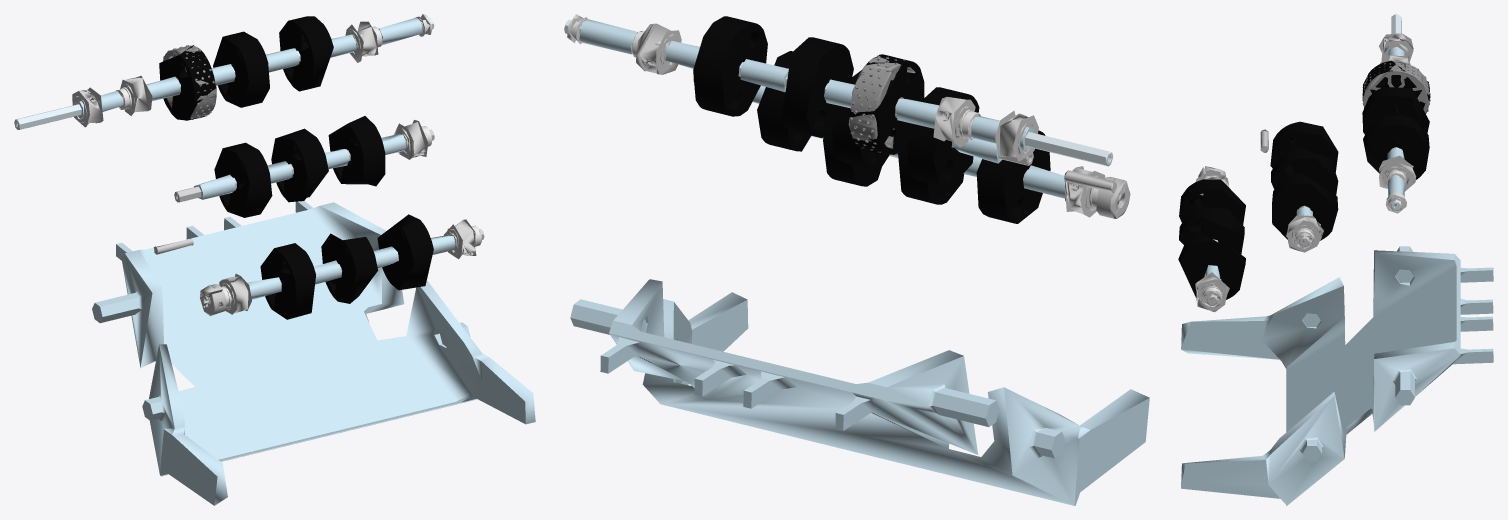
File: decode-intake.glb
3 views of the same model, side by side, from view 1: azimuth 30°, elevation 25°; view 2: azimuth 150°, elevation 25°; view 3: azimuth 270°, elevation 25° (orthographic). The views are drawn at different scales.
Parts seen in each view (by area): view 1: telemark-cad-intake-plate, telemark-cad-intake-stage-3, telemark-cad-intake-stage-1, telemark-cad-intake-stage-2; view 2: telemark-cad-intake-plate, telemark-cad-intake-stage-3, telemark-cad-intake-stage-1, telemark-cad-intake-stage-2; view 3: telemark-cad-intake-plate, telemark-cad-intake-stage-3, telemark-cad-intake-stage-2, telemark-cad-intake-stage-1.
Boxes of the visible parts, x1,y1,x2,y2 form: telemark-cad-intake-plate: (92,201,535,505); telemark-cad-intake-stage-3: (14,14,434,129); telemark-cad-intake-stage-1: (199,214,484,319); telemark-cad-intake-stage-2: (153,116,434,254); telemark-cad-intake-plate: (570,279,1149,505); telemark-cad-intake-stage-3: (564,14,1112,166); telemark-cad-intake-stage-1: (811,129,1130,223); telemark-cad-intake-stage-2: (693,51,1116,192); telemark-cad-intake-plate: (1181,246,1493,505); telemark-cad-intake-stage-3: (1362,14,1430,213); telemark-cad-intake-stage-2: (1260,121,1338,252); telemark-cad-intake-stage-1: (1178,166,1245,312).
Bounding box in the file's own units: 0.312 × 0.2605 × 0.2218.
1 material, 1 textured.
